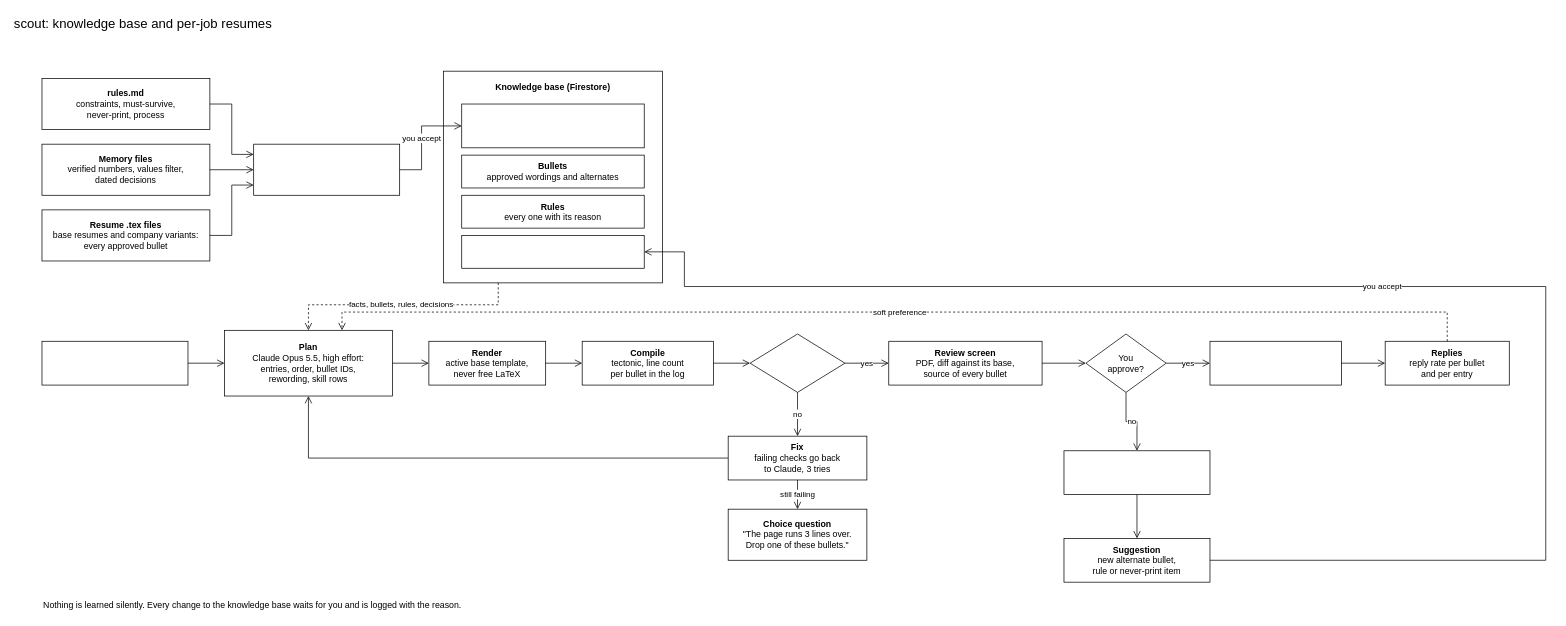
Some shapes in this 1566 by 626 pixel diagram are drawn without their labels. The centre of each missing label's shape, as x and y in pixels:
Agent uploads it hash checked first: pixel 1275 363
Decisions and bases dated calls; v6 active, v7 stored: pixel 552 251
Facts source and status: verified, stated, coursework, unverified: pixel 552 125
Job description from the posting: pixel 114 363
Pre-flight checks pass?: pixel 797 362
Seed import everything arrives as suggestions you accept: pixel 326 169
You edit or reject a bullet, a claim, a choice: pixel 1136 472
